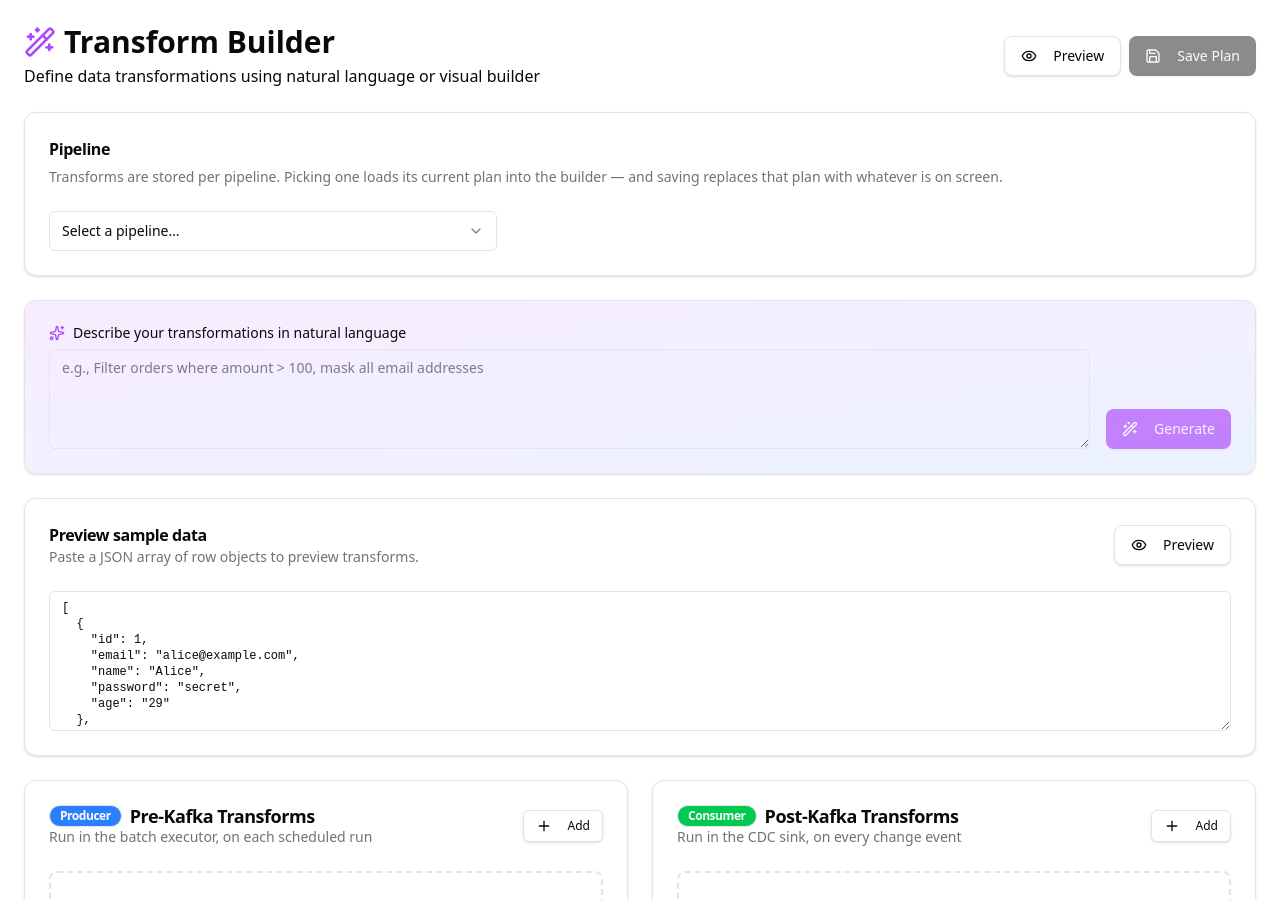
Scenario: Transform Builder — saving a plan to a pipeline › replaces the builder with the pipeline's stored plan when one is chosen
This screenshot has width=1280, height=900.
Click the dropdown.
click(121, 230)  # box [49, 211, 497, 251]
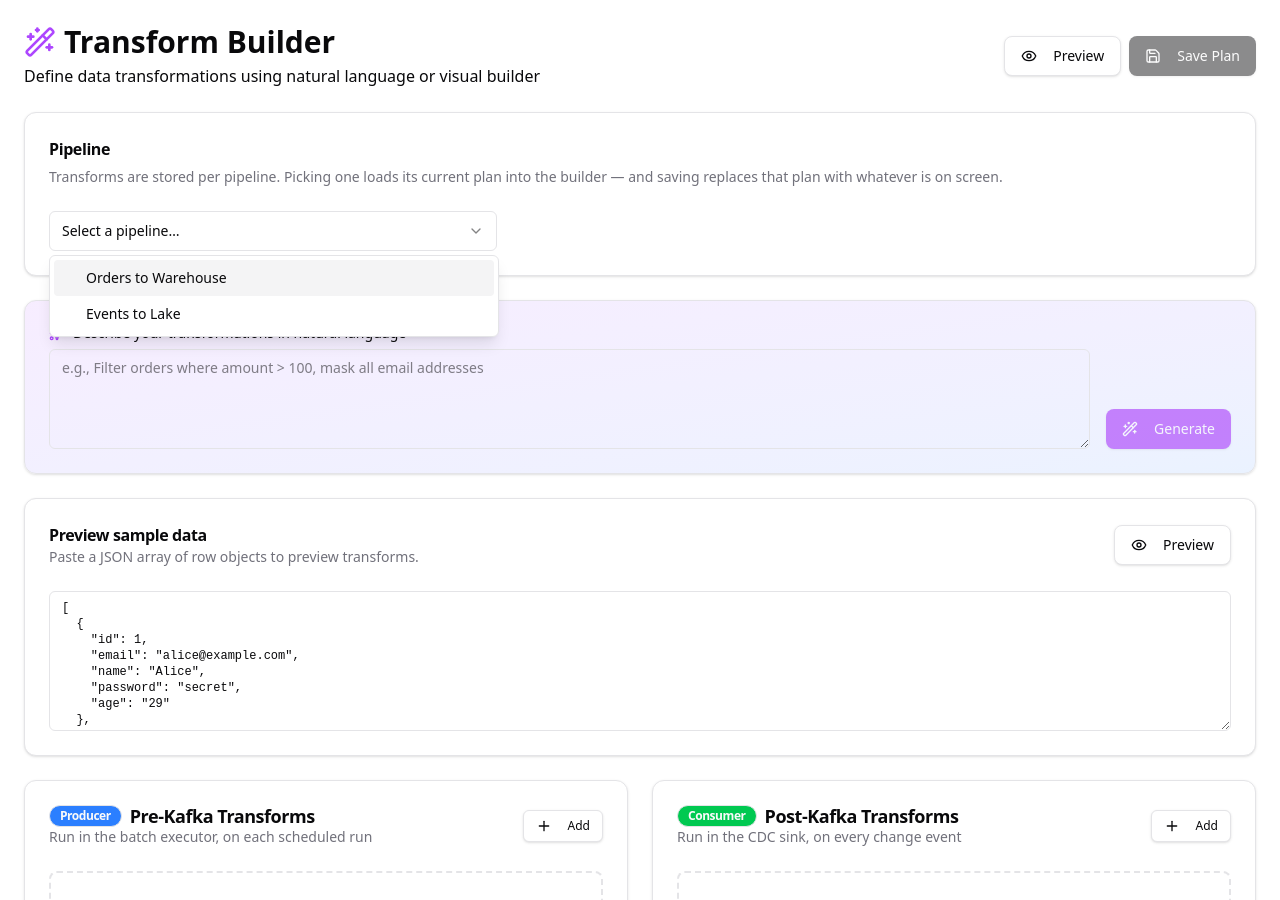
Click the option "Orders to Warehouse".
click(156, 278)  # box [54, 260, 494, 296]
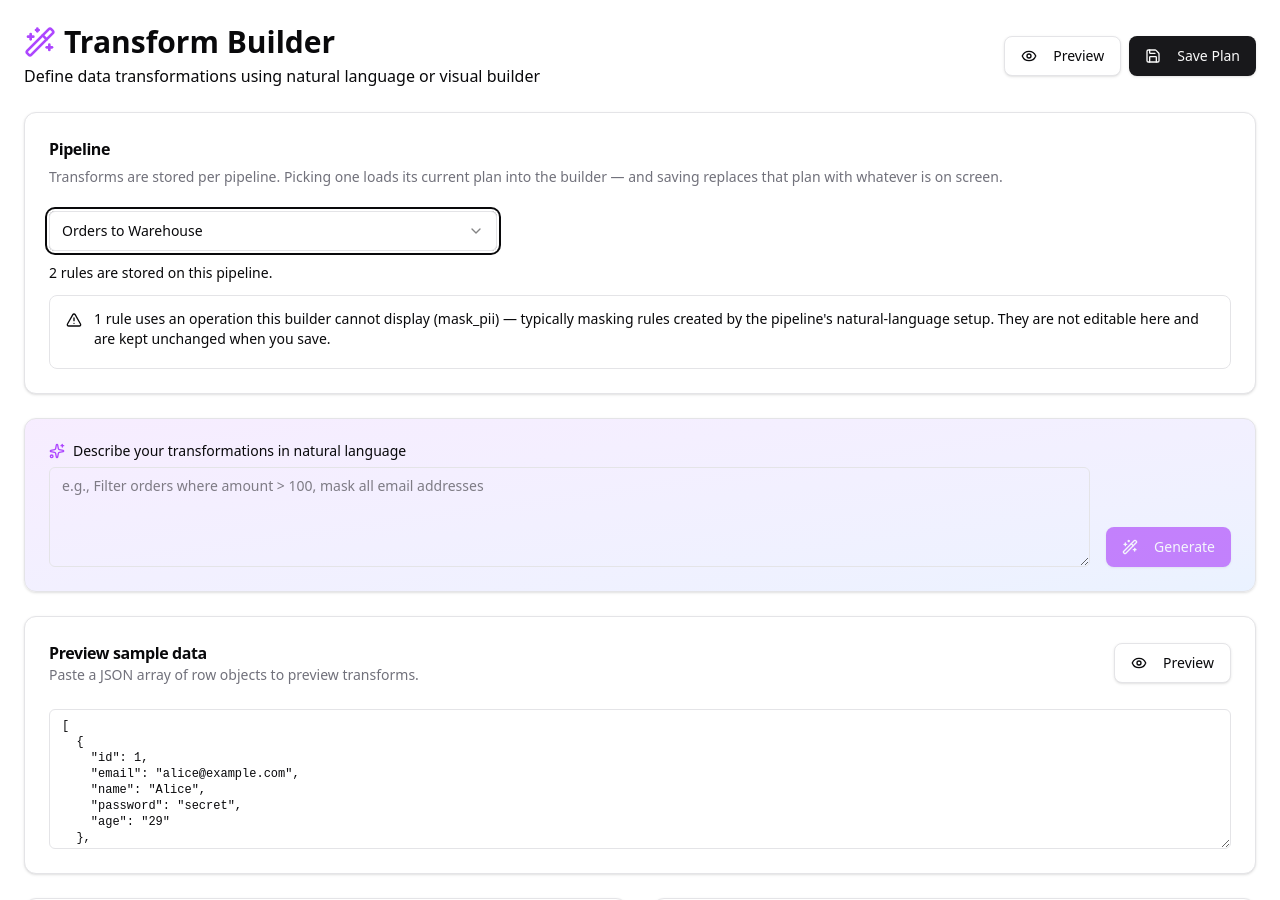
Now the text "2 rules are stored on this pipeline." is shown, box [49, 263, 272, 282]
Now the button "Save Plan" is enabled, box [1129, 36, 1256, 76]
